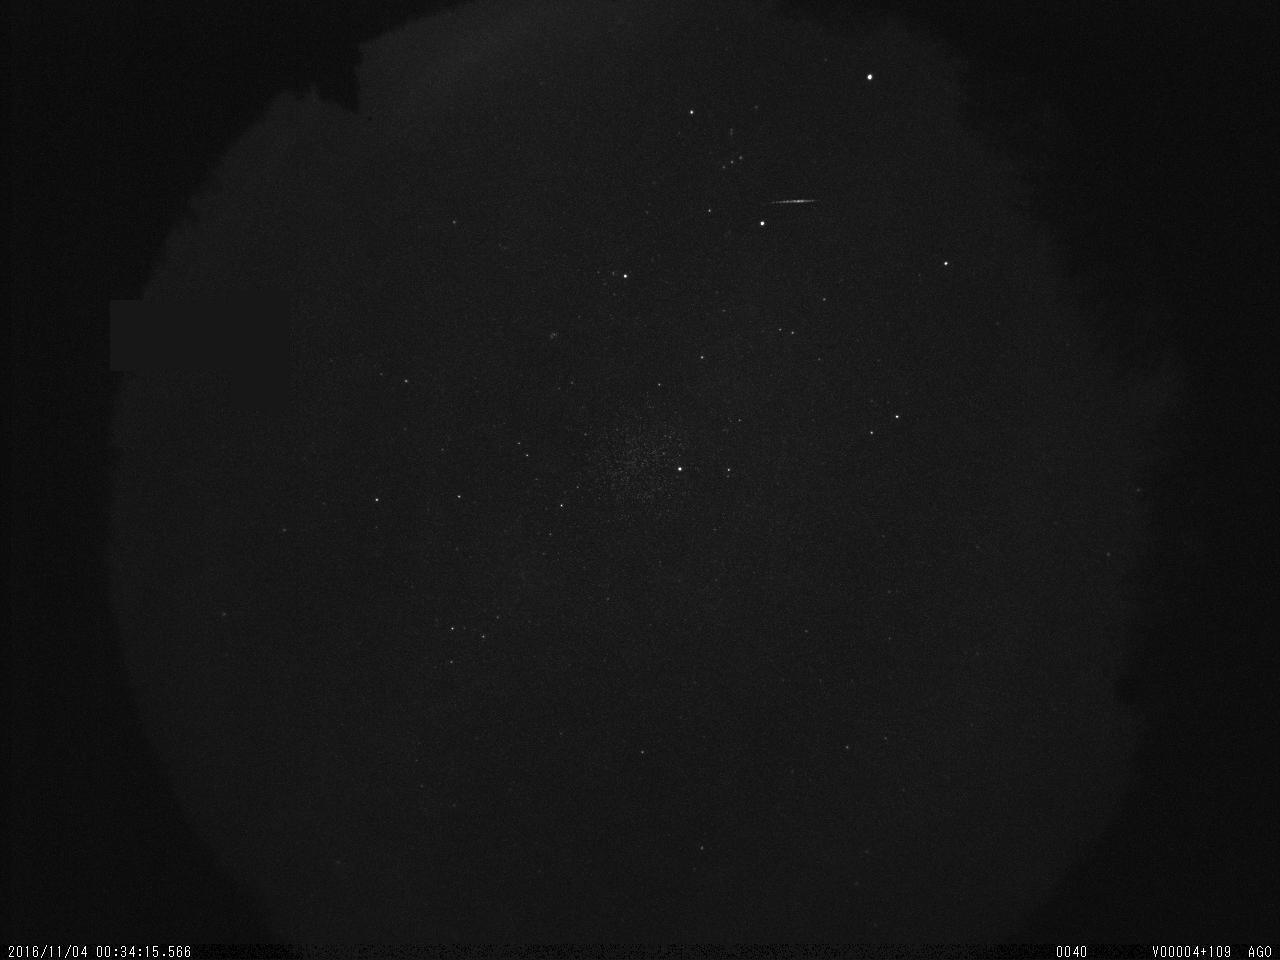meteor: (753, 195, 824, 211)
